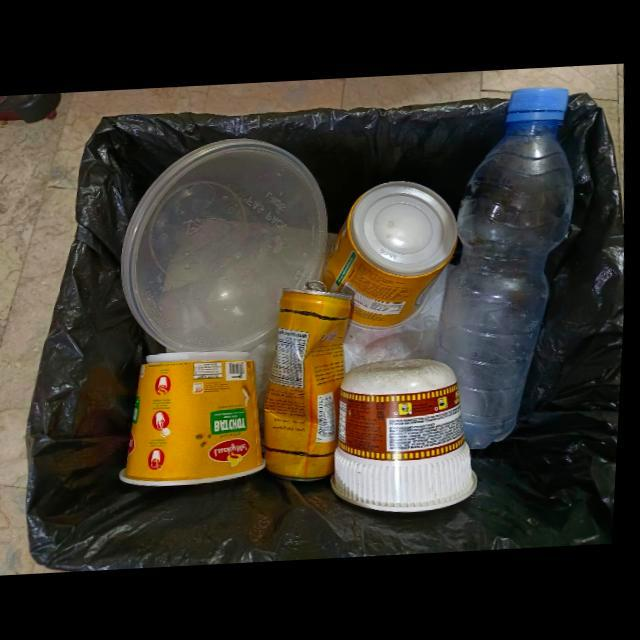aluminum: (266, 291, 358, 483)
plastic_bottle: (439, 87, 577, 451)
plastic_container: (123, 138, 331, 353), (335, 359, 483, 516), (326, 180, 462, 334), (124, 349, 271, 489)
